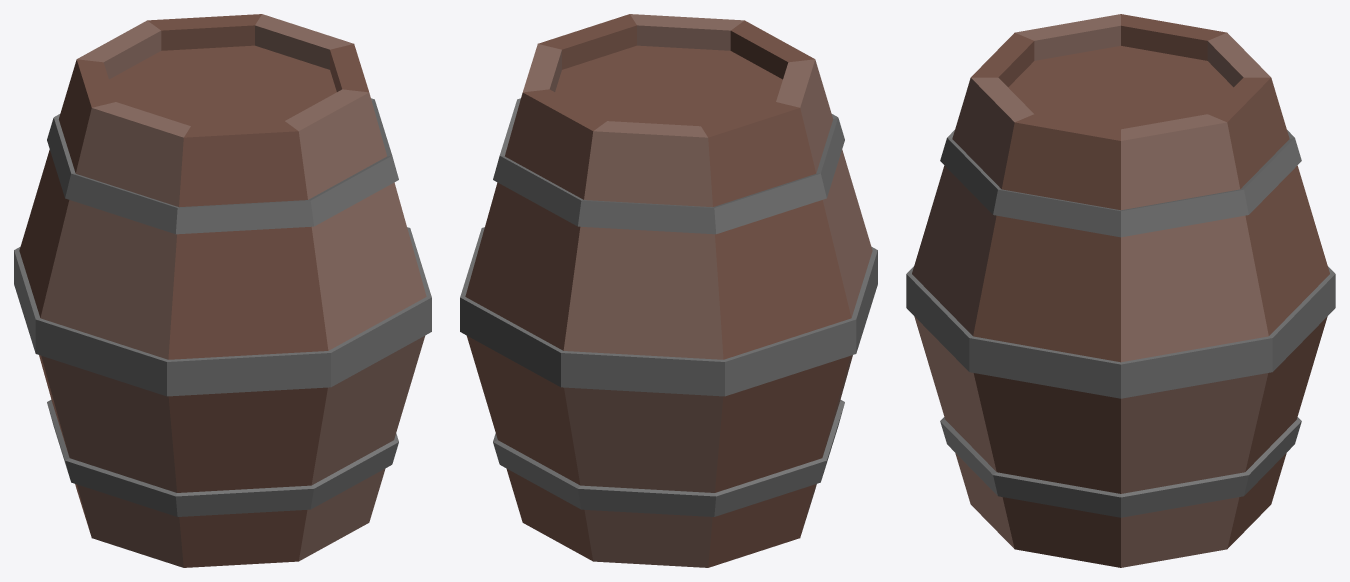
The model's file is Wooden_barrel.FBX.
The picture shows the model from 3 angles, left to right: view 1: azimuth 30°, elevation 25°; view 2: azimuth 150°, elevation 25°; view 3: azimuth 270°, elevation 25°; orthographic projection.
Parts seen in each view (by area): view 1: Wooden_barrel; view 2: Wooden_barrel; view 3: Wooden_barrel.
Part boxes in pixels (x1,y1,x2,y2): Wooden_barrel: [14, 14, 431, 567]; Wooden_barrel: [460, 14, 877, 567]; Wooden_barrel: [906, 14, 1335, 567].
Size of the model in its own units: 103 by 113 by 103.
